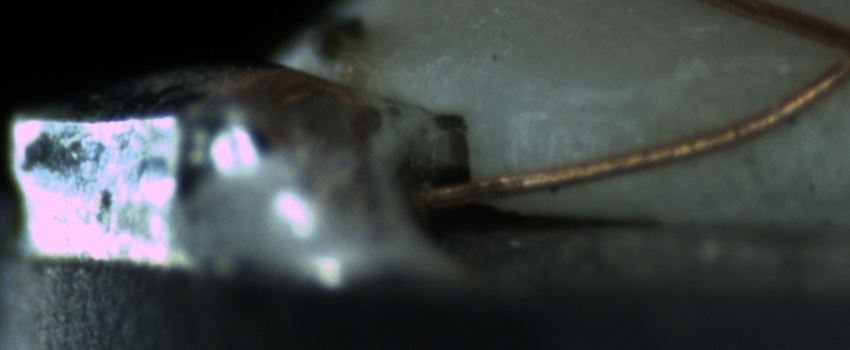DL: (511, 76, 648, 136)
